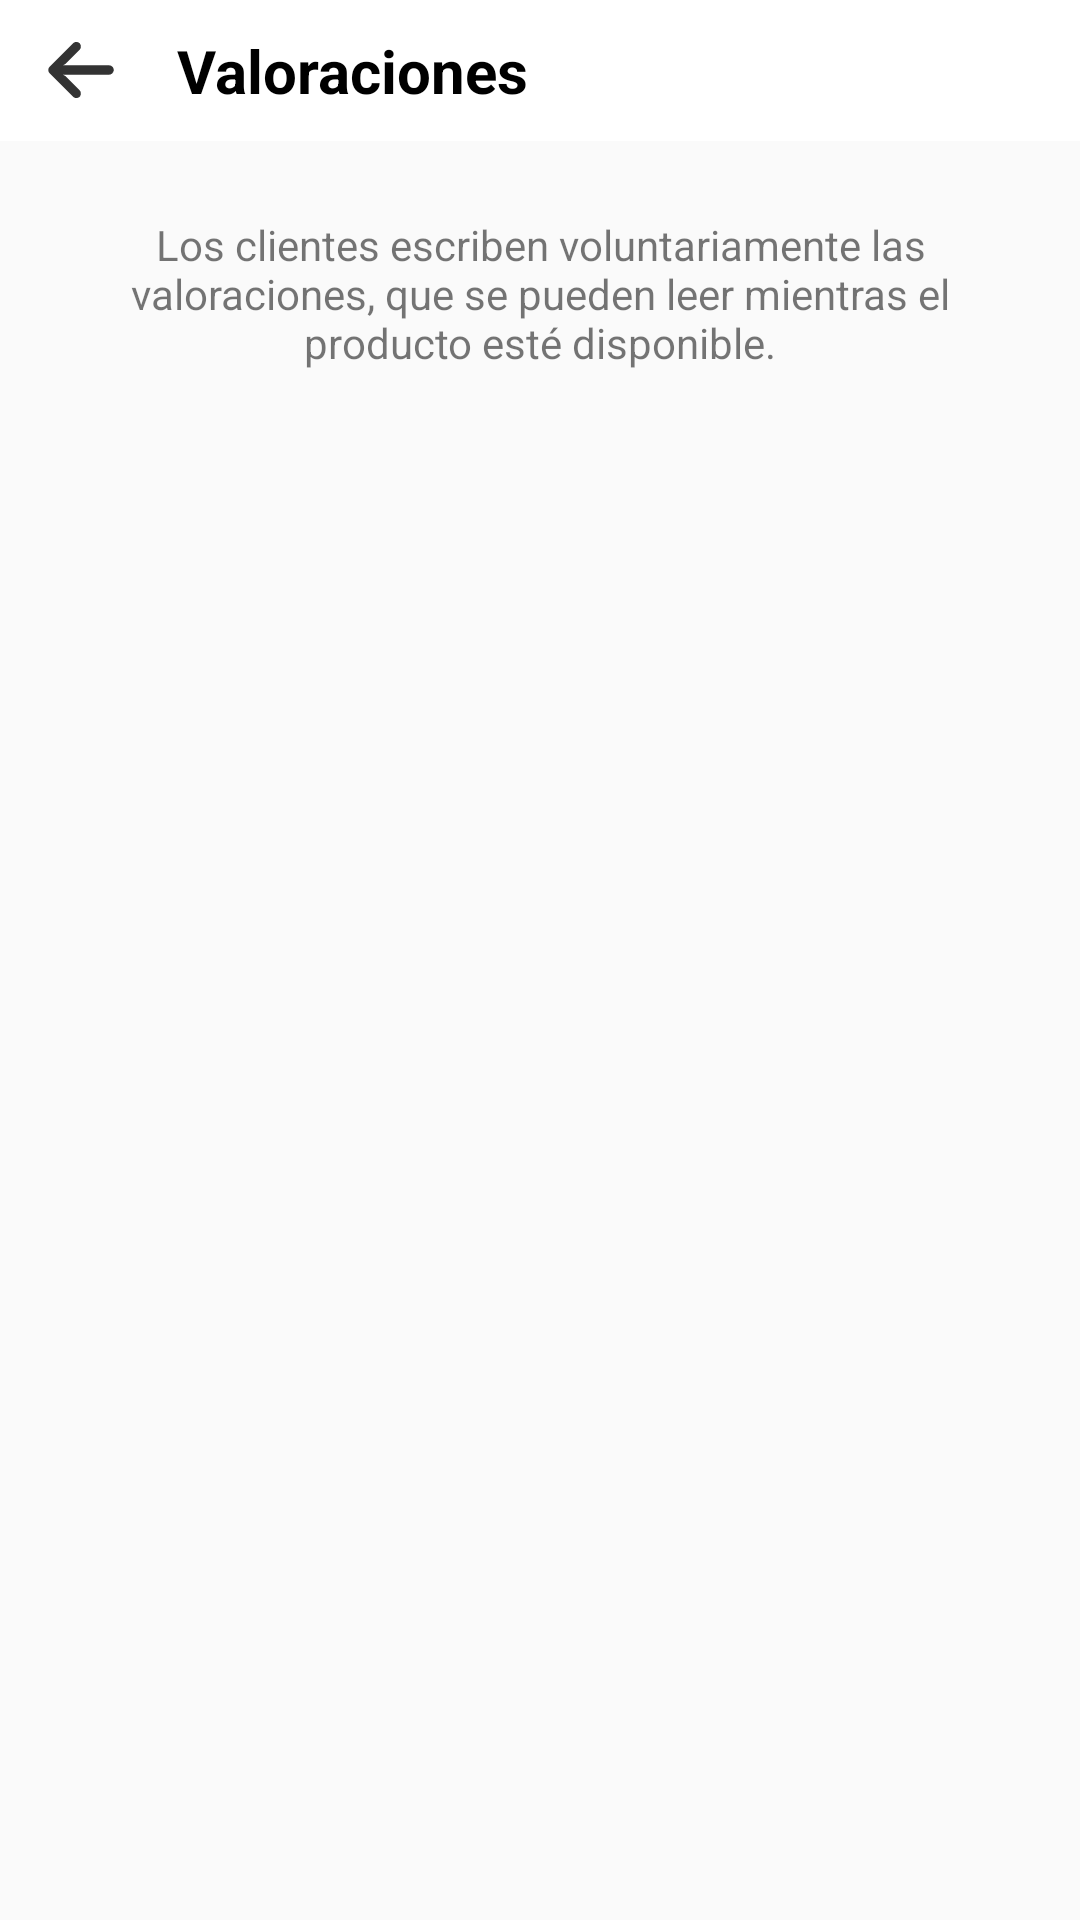

Icon click points for this 1080 × 1920 phone screenshot, format (x=x, y=y):
back to: (x=81, y=70)
